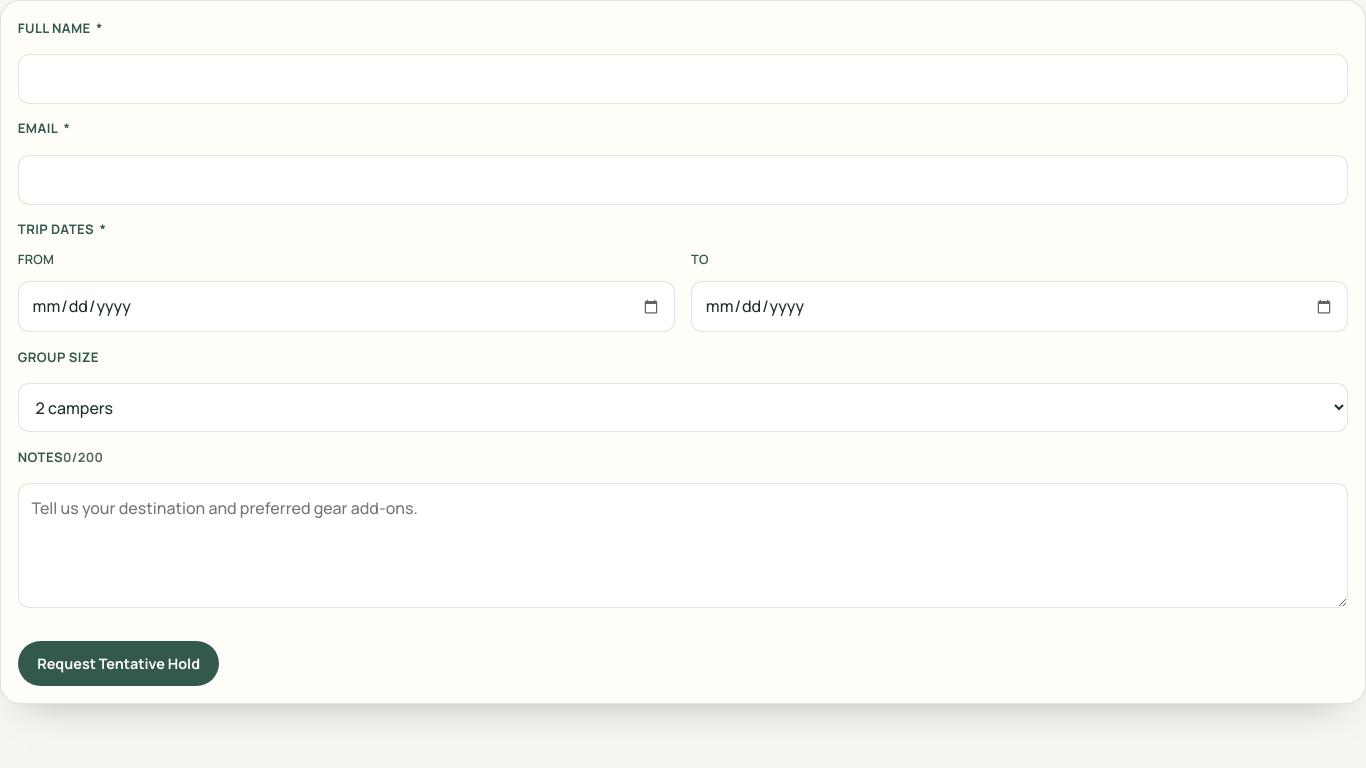
Test case: BookingForm › shows validation error for empty name
This screenshot has width=1366, height=768.
Click the button "Request Tentative Hold": [118, 664] box [18,641,219,687]
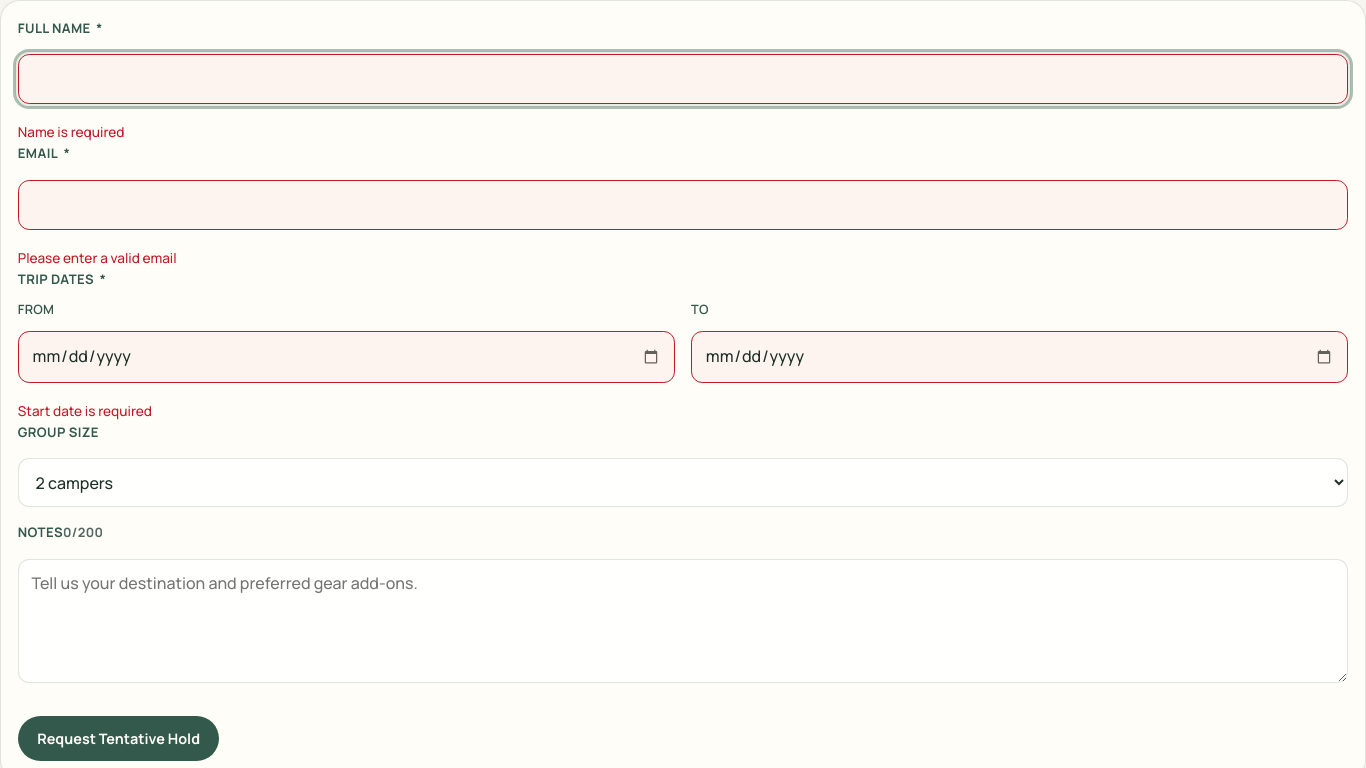
Now the text "Name is required" is shown, box [18,123,124,141]
